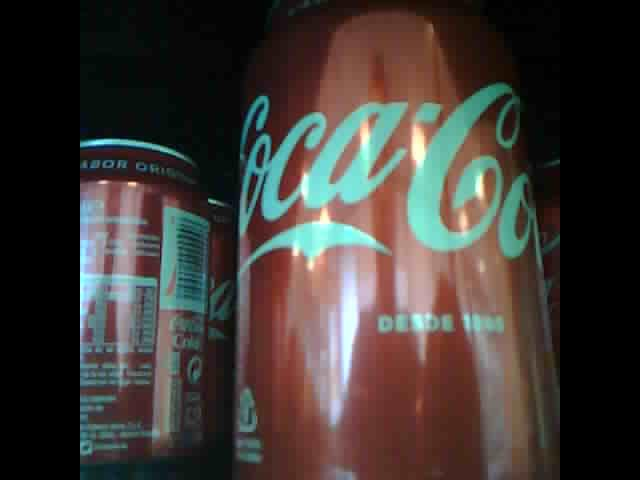coca cola: (232, 1, 547, 476), (81, 134, 212, 459), (203, 193, 227, 444)
